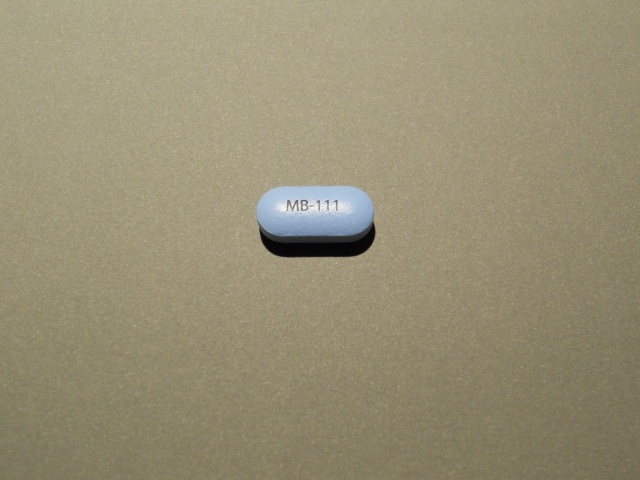1: (323, 198, 333, 213), (333, 198, 343, 213), (315, 198, 323, 213)
B: (299, 197, 310, 214)
M: (283, 197, 302, 213)
